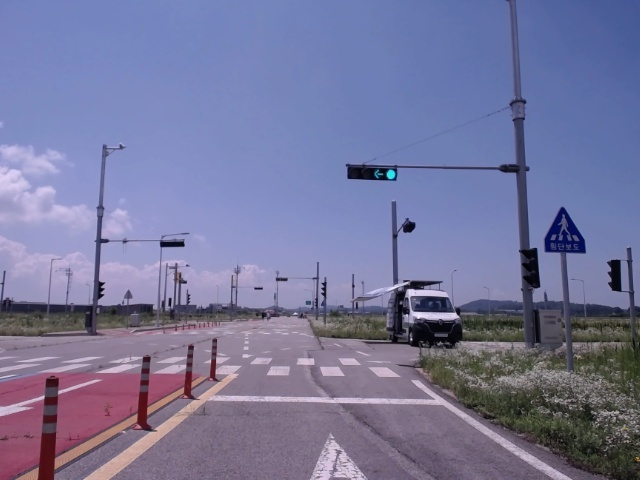all_green_4: (347, 164, 395, 179)
